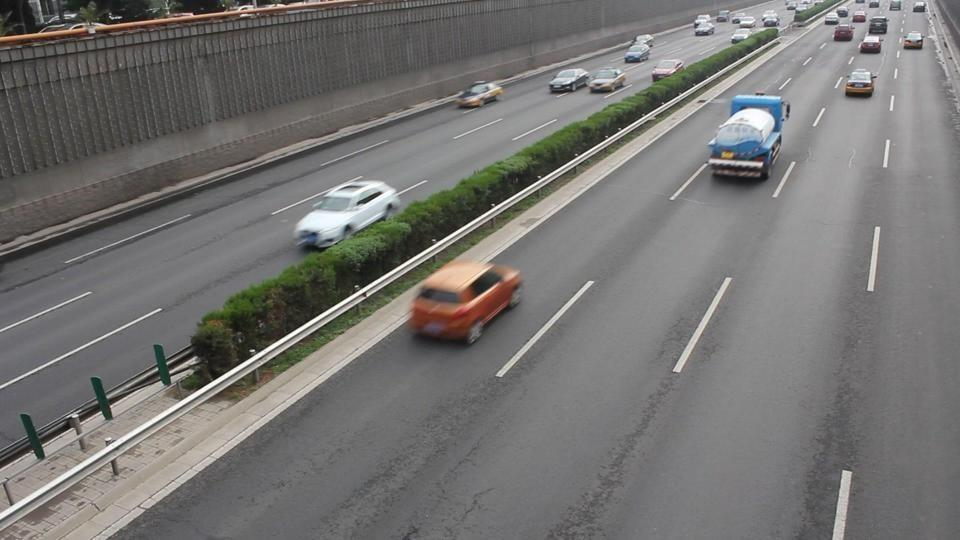car: (408, 259, 525, 346), (294, 177, 402, 252), (707, 99, 788, 182), (455, 81, 505, 109), (548, 68, 593, 94), (589, 67, 628, 94), (843, 69, 876, 97), (624, 36, 654, 63), (650, 60, 685, 82), (693, 16, 715, 36), (901, 30, 924, 49), (859, 35, 883, 53), (868, 15, 887, 34), (732, 14, 757, 28), (834, 23, 854, 40), (761, 13, 780, 27), (824, 11, 843, 24), (851, 10, 867, 24), (912, 2, 927, 13)
